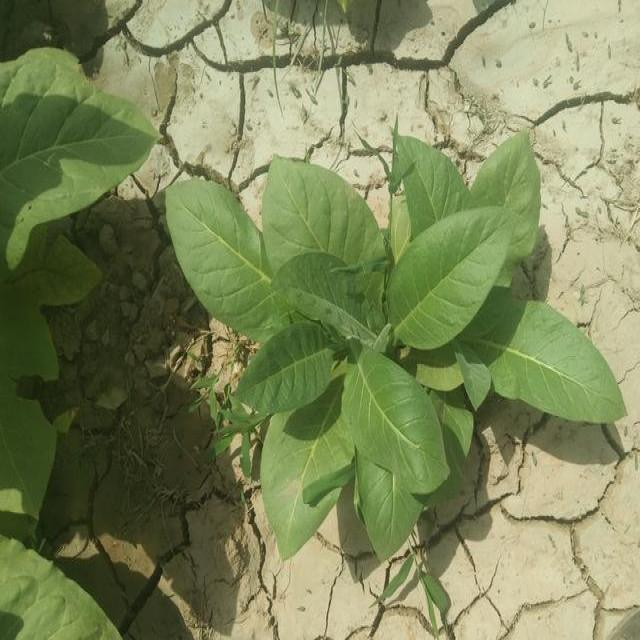crop: (161, 132, 620, 555), (0, 56, 150, 538), (0, 526, 120, 640)
